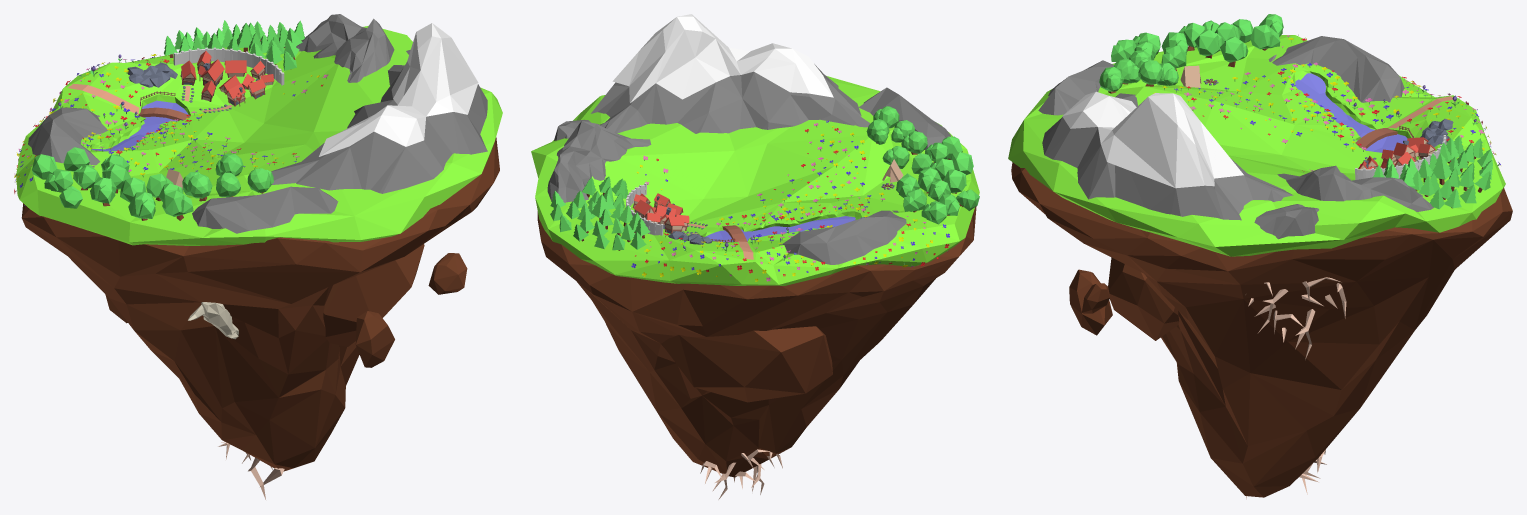
File: Scenery.fbx
3 views of the same model, side by side, from view 1: azimuth 30°, elevation 25°; view 2: azimuth 150°, elevation 25°; view 3: azimuth 270°, elevation 25° (orthographic). The views are drawn at different scales.
Parts seen in each view (by area): view 1: Map_High.001, Map_High.002, Map_High.006, Map_High.007, Rock, Map_High.012, Map_High.008, Map_High.011, Asteroid.055, Wall, Asteroid.054, Map_High.009 (+5 smaller); view 2: Map_High.002, Map_High.001, Map_High.006, Rock_2, Map_High.007, Map_High.008, Map_High.011, Map_High.012, Map_High.009, Roots, Wall; view 3: Map_High.001, Map_High.002, Map_High.007, Map_High.006, Map_High.011, Map_High.008, Rock, Map_High.012, Map_High.009, Map_High.010, Asteroid.055, Roots.002 (+4 smaller).
Boxes of the visible parts, box(x1,y1,x2,y2) form: Map_High.001: box(18, 137, 499, 471); Map_High.002: box(16, 26, 502, 245); Map_High.006: box(271, 65, 487, 193); Map_High.007: box(319, 23, 478, 156); Rock: box(323, 244, 424, 346); Map_High.012: box(192, 186, 338, 233); Map_High.008: box(296, 14, 394, 82); Map_High.011: box(28, 107, 108, 167); Asteroid.055: box(355, 311, 394, 367); Wall: box(173, 47, 284, 85); Asteroid.054: box(428, 253, 467, 294); Map_High.009: box(91, 100, 188, 151); Map_High.002: box(531, 76, 979, 285); Map_High.001: box(537, 206, 976, 477); Map_High.006: box(591, 64, 870, 133); Rock_2: box(661, 326, 832, 402); Map_High.007: box(612, 14, 833, 103); Map_High.008: box(547, 121, 651, 202); Map_High.011: box(780, 210, 906, 264); Map_High.012: box(859, 87, 950, 150); Map_High.009: box(705, 216, 855, 242); Roots: box(700, 449, 782, 499); Wall: box(626, 183, 663, 235); Map_High.001: box(1011, 162, 1512, 497); Map_High.002: box(1008, 35, 1505, 256); Map_High.007: box(1062, 91, 1243, 188); Map_High.006: box(1042, 93, 1293, 220); Map_High.011: box(1268, 36, 1404, 102); Map_High.008: box(1277, 165, 1433, 211); Rock: box(1108, 257, 1178, 340); Map_High.012: box(1038, 60, 1113, 115); Map_High.009: box(1295, 73, 1407, 152); Map_High.010: box(1254, 204, 1318, 239); Asteroid.055: box(1069, 269, 1112, 335); Roots.002: box(1245, 277, 1346, 359).
Size of the model in its own units: 6.5 by 6.54 by 6.37.
